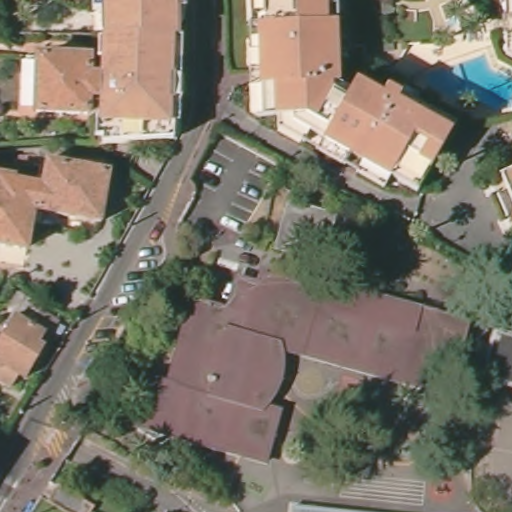pool: (413, 52, 512, 114)
